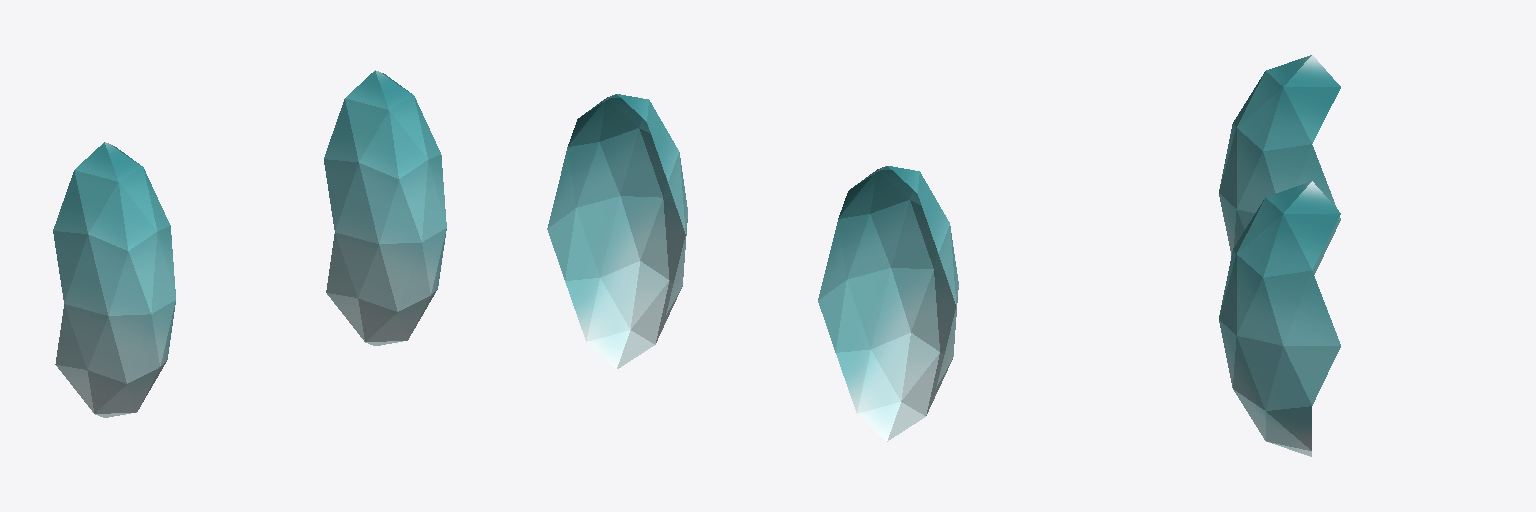
3 views of the same model, side by side, from view 1: azimuth 30°, elevation 25°; view 2: azimuth 150°, elevation 25°; view 3: azimuth 270°, elevation 25° (orthographic).
Parts seen in each view (by area): view 1: ICO球; view 2: ICO球; view 3: ICO球.
Part boxes in pixels (x1,y1,x2,y2): ICO球: (53, 70, 446, 417); ICO球: (547, 94, 958, 441); ICO球: (1219, 55, 1340, 456).
Size of the model in its own units: 1.26 by 0.894 by 0.3519.
1 materials, 1 textured.